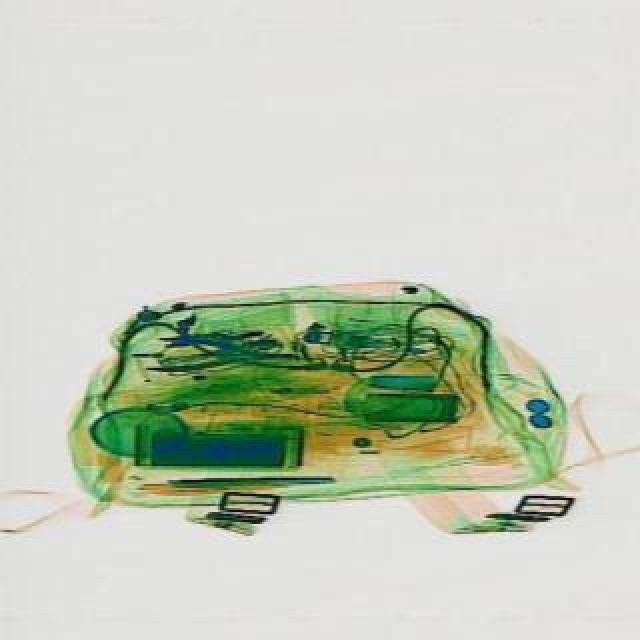wrench: (140, 336, 296, 370)
